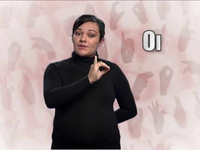oi: (83, 54, 112, 86)
